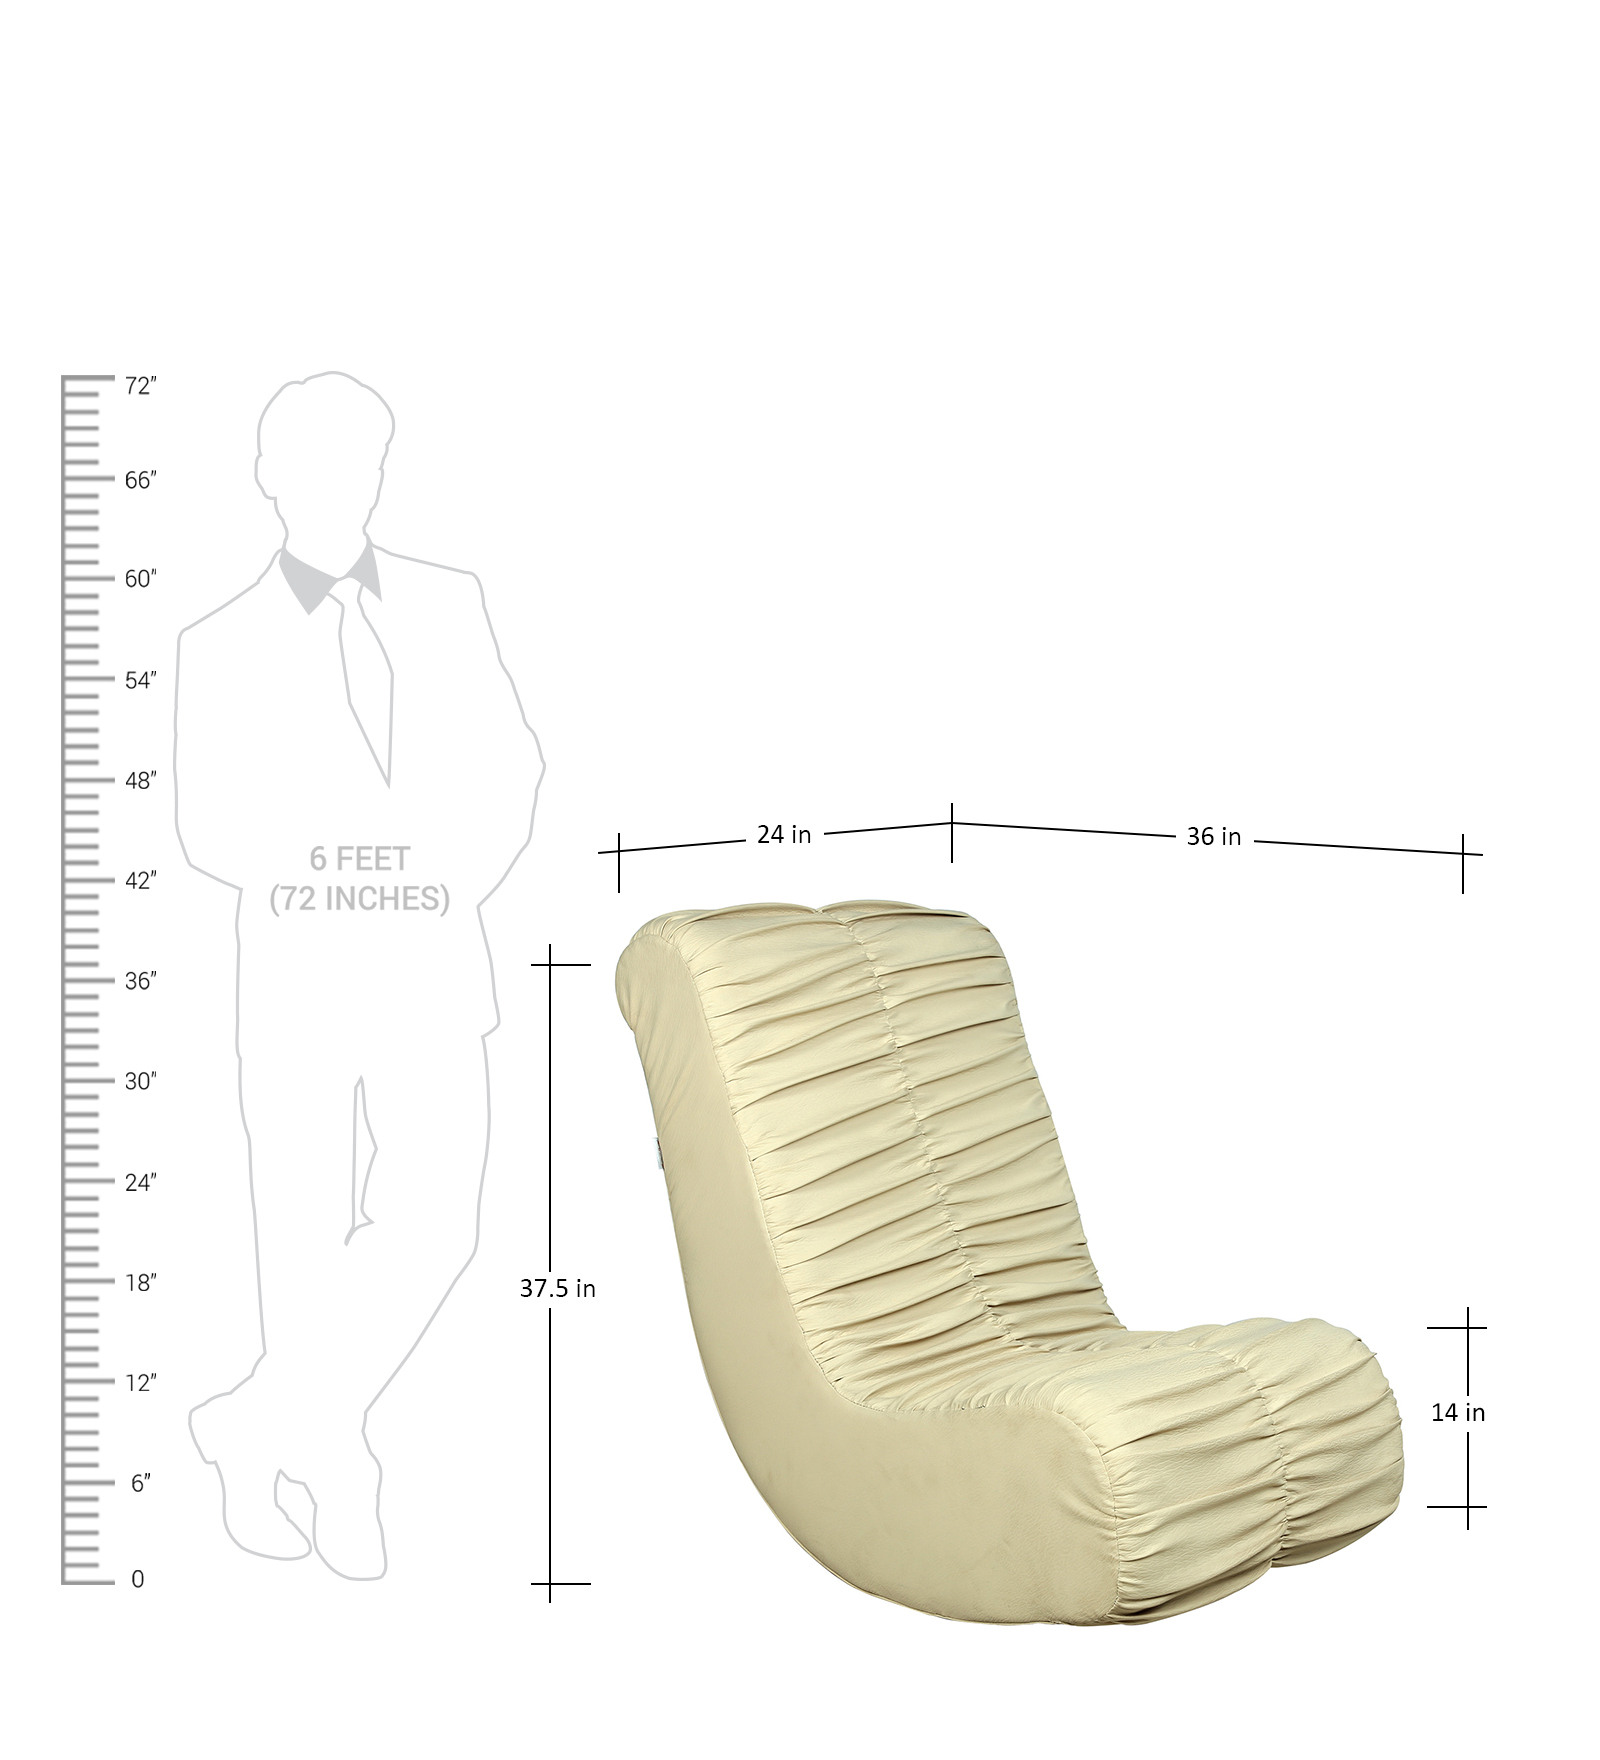Daisy Rocking Chair in Ivory Colour by Parin: (598, 874, 1411, 1624)
